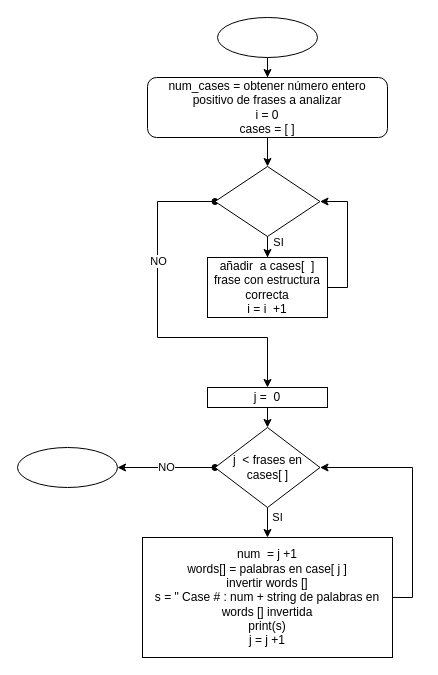
This 438x675 diagram has some shape labels left out. The shapes that lost their labels are listed below. From the top down, each one's box as (x1, y1, x2, y2) in pixels, then its label:
(216, 16, 318, 58): Inicio
(214, 166, 320, 236): i < num_cases
(16, 446, 118, 488): Fin
